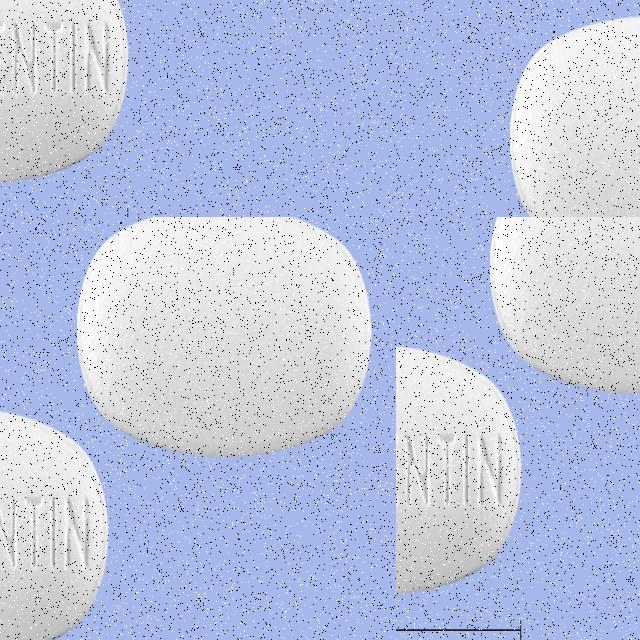Augmentin: (396, 343, 523, 599), (487, 217, 640, 400)
Clamon Tab: (0, 0, 119, 188)
Clarid - 250mg: (521, 0, 640, 217)
Clocide: (84, 217, 377, 468), (0, 380, 103, 640)
